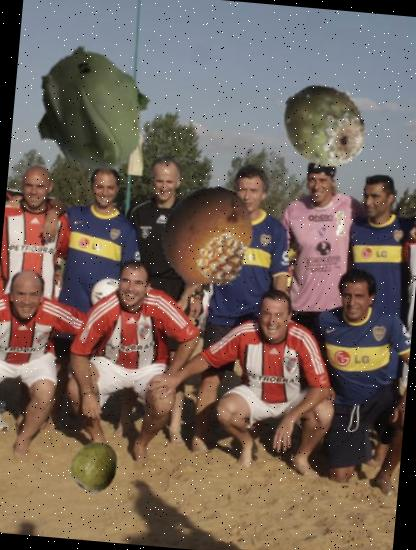Cactus: (276, 76, 375, 174)
Granadilla: (140, 180, 268, 308)
Guava: (67, 439, 124, 496)
Kohlrabi: (22, 39, 164, 180)
Pineapple: (193, 229, 252, 288)
